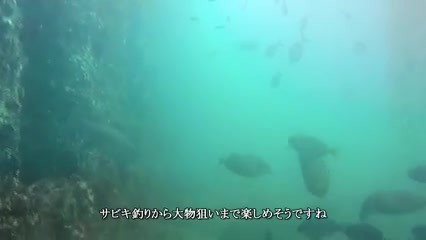smallfish: (211, 149, 276, 179)
